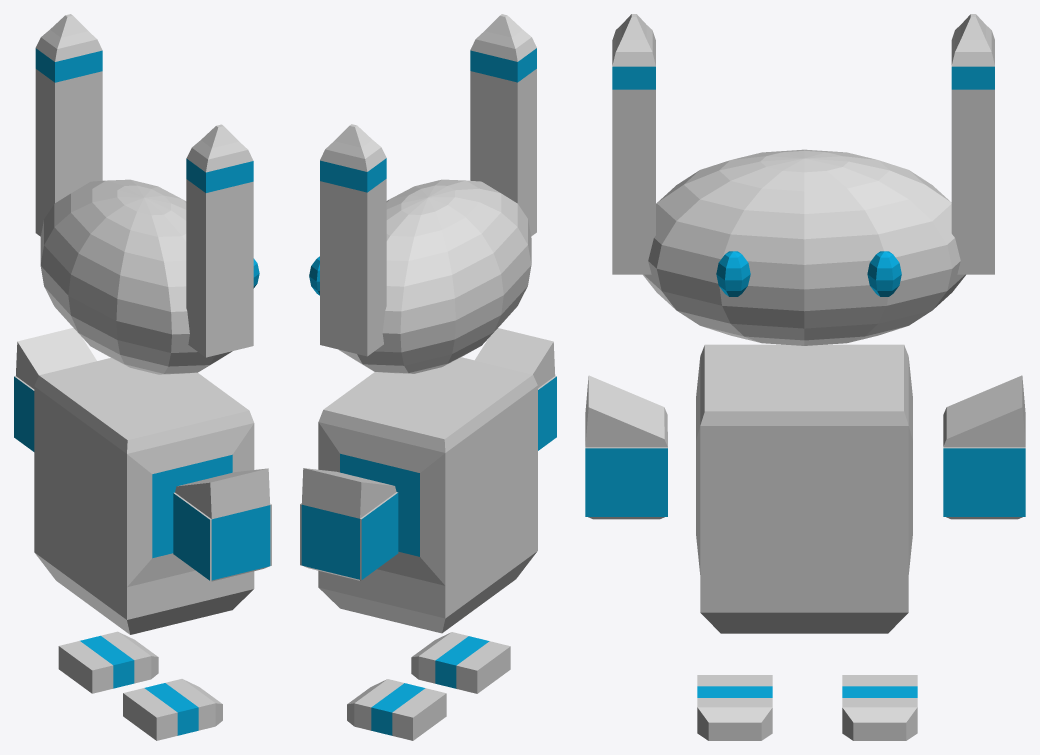
The model's file is character (1).fbx.
The picture shows the model from 3 angles, left to right: view 1: azimuth 30°, elevation 25°; view 2: azimuth 150°, elevation 25°; view 3: azimuth 270°, elevation 25°; orthographic projection. The views are drawn at different scales.
Visible parts, largest first — view 1: Cube, Sphere, Cube.006, Cube.002, Cube.005, Cube.003, Cube.004, Cube.001; view 2: Cube, Sphere, Cube.002, Cube.006, Cube.001, Cube.004, Cube.003, Cube.005; view 3: Cube, Sphere, Cube.006, Cube.002, Cube.001, Cube.005, Cube.003, Cube.004, Sphere.001, Sphere.002.
Part boxes in pixels (x1,y1,x2,y2): Cube: [34, 358, 254, 634]; Sphere: [40, 179, 232, 374]; Cube.006: [186, 124, 253, 357]; Cube.002: [35, 14, 102, 236]; Cube.005: [173, 468, 271, 581]; Cube.003: [58, 631, 158, 693]; Cube.004: [123, 679, 222, 740]; Cube.001: [14, 328, 96, 451]; Cube: [318, 357, 537, 633]; Sphere: [338, 179, 531, 373]; Cube.002: [320, 124, 386, 356]; Cube.006: [470, 14, 536, 236]; Cube.001: [300, 468, 398, 580]; Cube.004: [411, 632, 510, 693]; Cube.003: [347, 679, 446, 740]; Cube.005: [475, 328, 556, 450]; Cube: [696, 344, 912, 633]; Sphere: [643, 149, 965, 345]; Cube.006: [612, 14, 655, 274]; Cube.002: [951, 14, 994, 274]; Cube.001: [943, 375, 1025, 519]; Cube.005: [585, 375, 667, 519]; Cube.003: [842, 675, 917, 740]; Cube.004: [697, 675, 772, 740]; Sphere.001: [867, 251, 901, 296]; Sphere.002: [716, 251, 750, 296].
Size of the model in its own units: 245 by 942 by 533.
